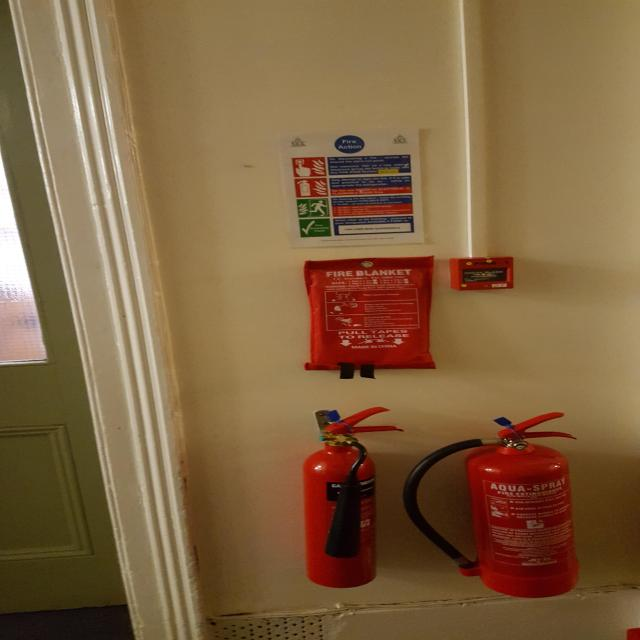fire_extinguisher: (398, 409, 587, 598), (298, 406, 409, 588)
